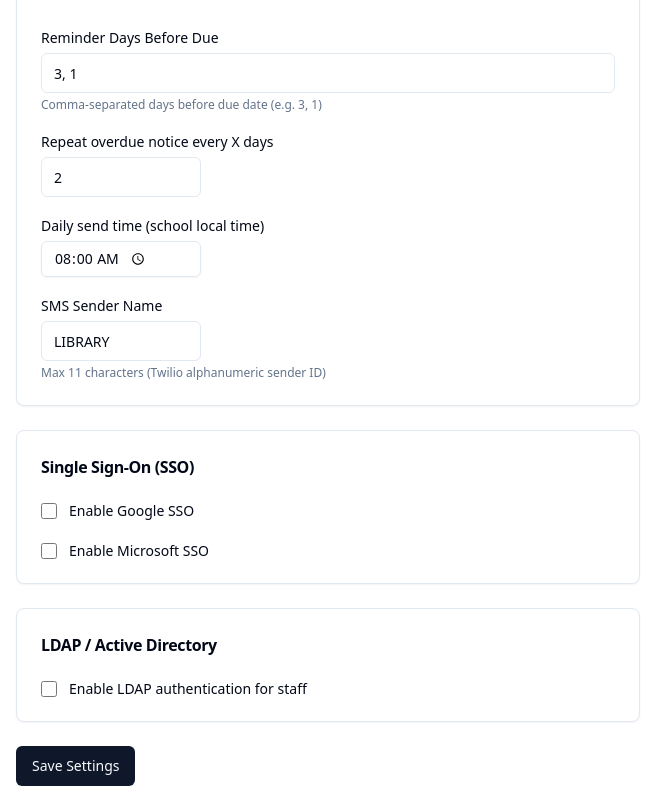
Test: SchoolSettingsPage › shows saved confirmation after successful save
(page scrolled)
Click the button "Save Settings". click: x=76, y=766
box: x1=16 y1=746 x2=136 y2=786
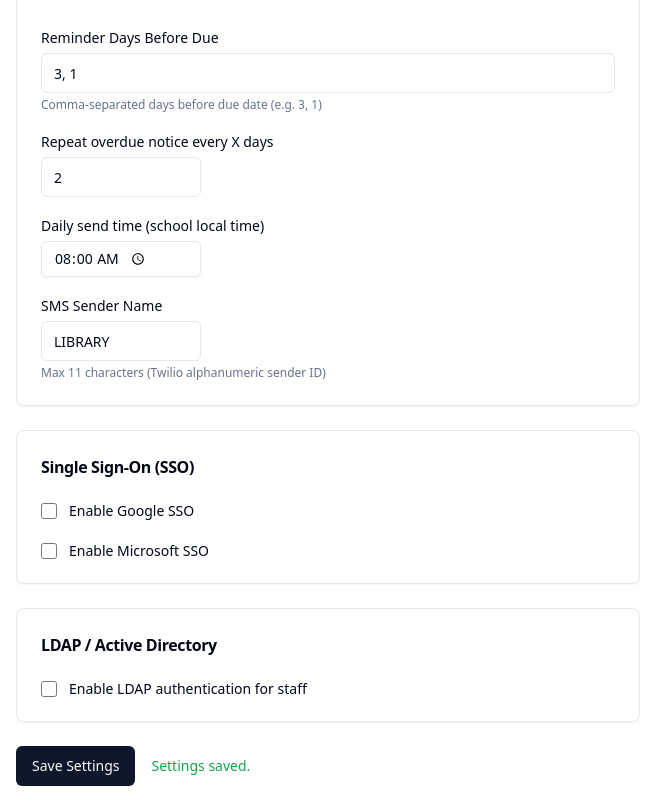
Expected: the text "Settings saved." is shown, x1=152 y1=756 x2=250 y2=776
